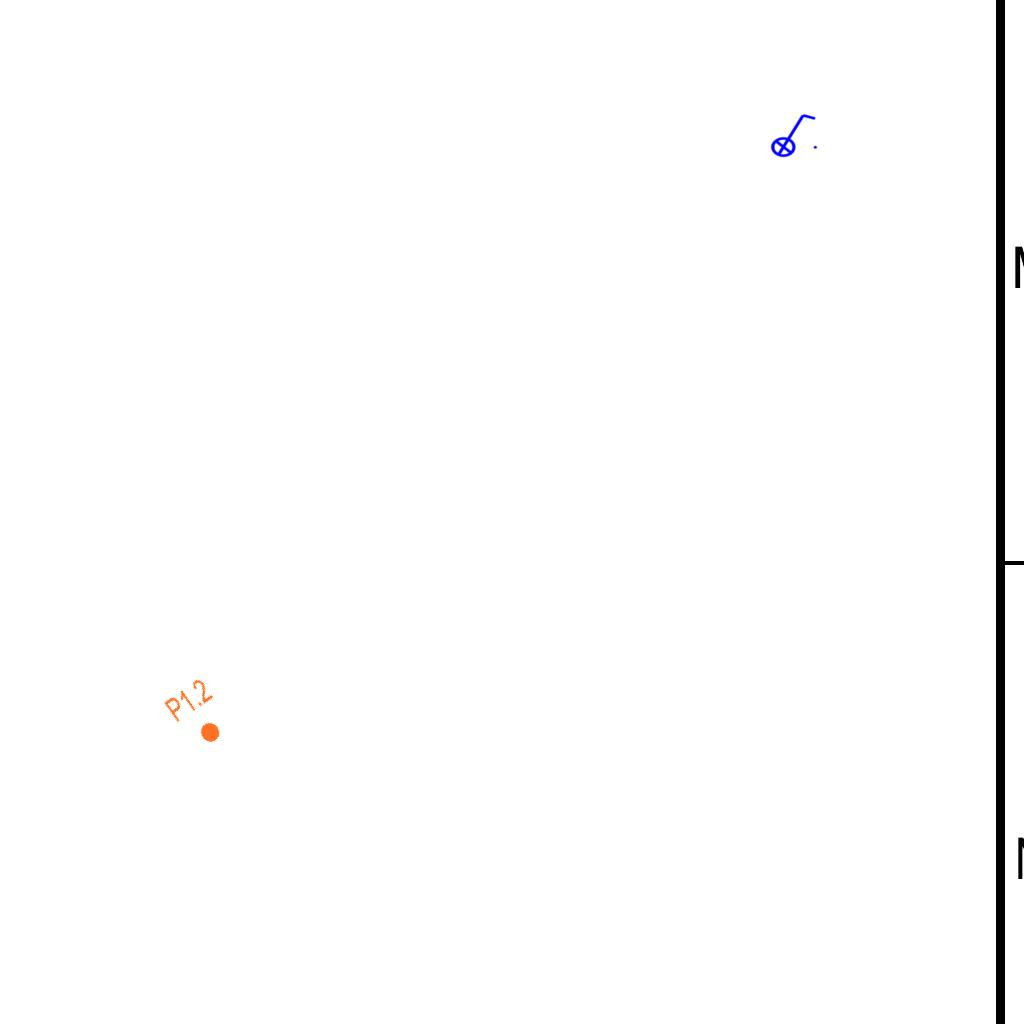Ausschalter_beleuchtet: (764, 110, 820, 158)
Downlight_LED_Einbauleuchten_Flur: (161, 675, 237, 755)
